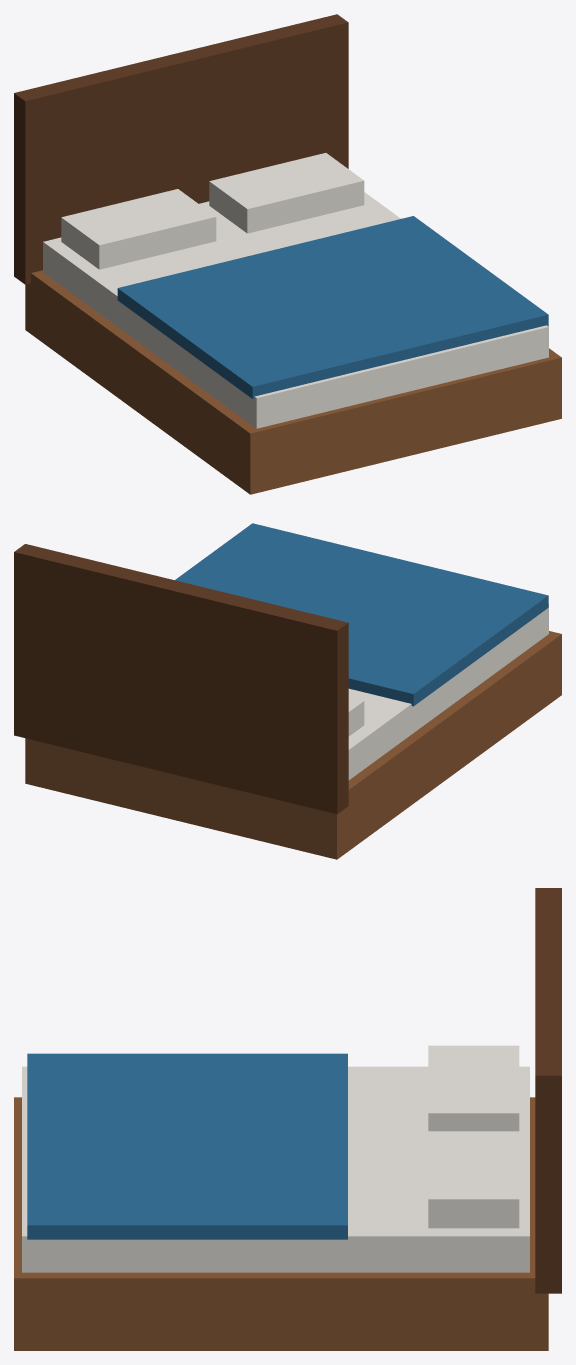
Rendered from bed.glb.
The picture shows the model from 3 angles, top to bottom: view 1: azimuth 30°, elevation 25°; view 2: azimuth 150°, elevation 25°; view 3: azimuth 270°, elevation 25°; orthographic projection. The views are drawn at different scales.
Parts seen in each view (by area): view 1: bed-5e3b22, bed-2f6f9a, bed-e9e6df, bed-8a5a35; view 2: bed-5e3b22, bed-2f6f9a, bed-8a5a35, bed-e9e6df; view 3: bed-2f6f9a, bed-e9e6df, bed-8a5a35, bed-5e3b22.
Part boxes in pixels (x1=…): bed-5e3b22: x1=14, y1=14, x2=348, y2=284; bed-2f6f9a: x1=117, y1=216, x2=548, y2=398; bed-e9e6df: x1=43, y1=153, x2=548, y2=428; bed-8a5a35: x1=25, y1=270, x2=561, y2=494; bed-5e3b22: x1=14, y1=544, x2=348, y2=814; bed-2f6f9a: x1=175, y1=523, x2=548, y2=706; bed-8a5a35: x1=25, y1=631, x2=561, y2=859; bed-e9e6df: x1=348, y1=604, x2=548, y2=780; bed-2f6f9a: x1=27, y1=1053, x2=347, y2=1239; bed-e9e6df: x1=22, y1=1045, x2=529, y2=1272; bed-8a5a35: x1=14, y1=1097, x2=548, y2=1350; bed-5e3b22: x1=535, y1=888, x2=561, y2=1293.
Size of the model in its own units: 1.66 by 1.15 by 2.05.
